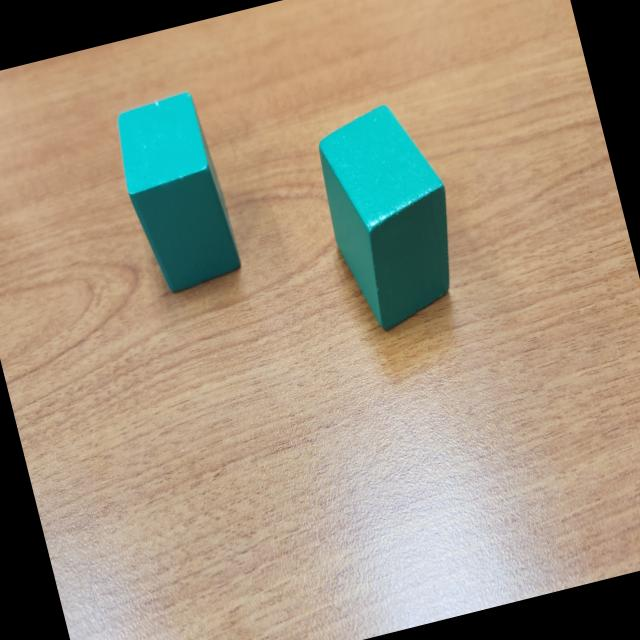green: (305, 92, 475, 338), (106, 86, 246, 300)
